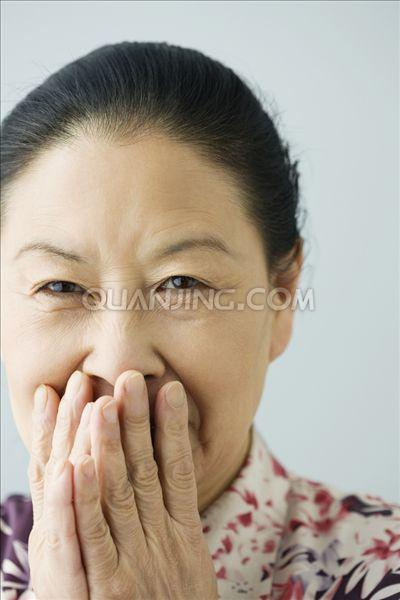face: (6, 134, 261, 515)
